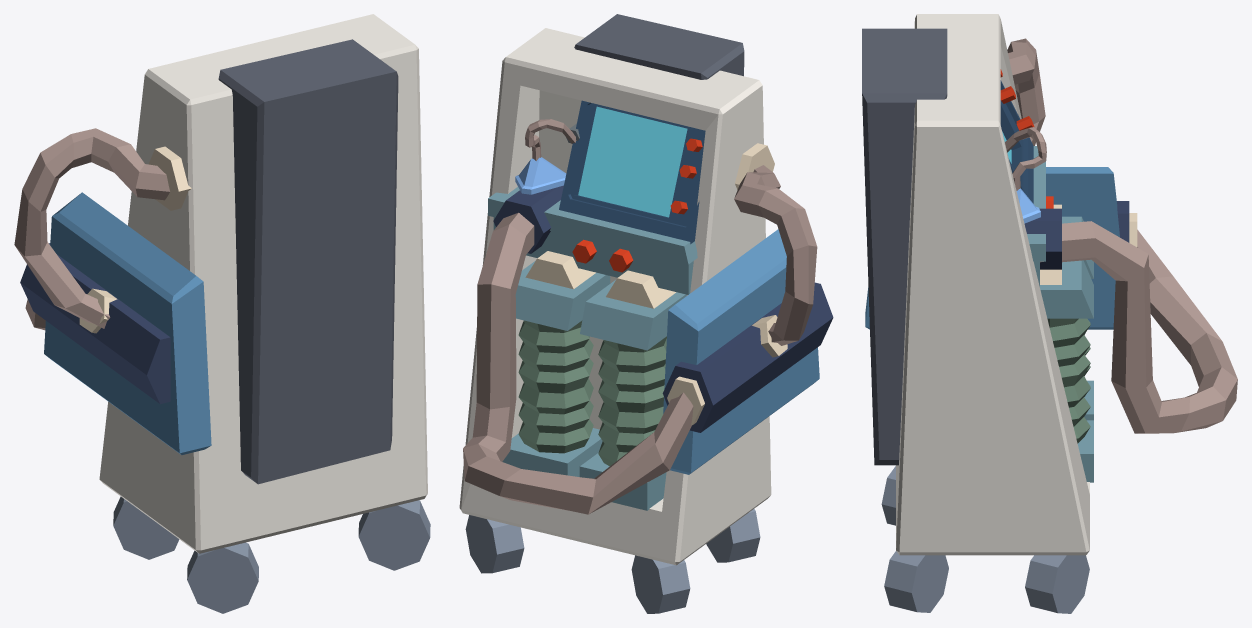
The model's file is g_o_BreathObstruction.fbx.
3 renders of one model, left to right at view 1: azimuth 30°, elevation 25°; view 2: azimuth 150°, elevation 25°; view 3: azimuth 270°, elevation 25°, orthographic. The views are drawn at different scales.
Parts seen in each view (by area): view 1: BreathObstruction2; view 2: BreathObstruction2; view 3: BreathObstruction2.
Part boxes in pixels (box(x1,y1,x2,y2)): BreathObstruction2: box(14, 14, 430, 613); BreathObstruction2: box(459, 14, 833, 613); BreathObstruction2: box(862, 14, 1237, 613).
Bounding box in the file's own units: 78.32 × 110 × 74.29.
